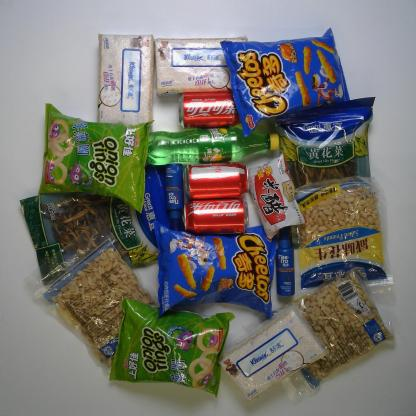Dried Food: (17, 162, 174, 291), (265, 93, 376, 225)
Dried Fruit: (25, 226, 171, 382), (260, 265, 396, 393), (284, 178, 393, 293)
Drink: (146, 125, 278, 164), (178, 87, 244, 126), (182, 199, 248, 234), (188, 160, 249, 196)
Personal Hygiene: (271, 227, 296, 296), (164, 156, 184, 235)
Puffed Food: (222, 26, 350, 132), (147, 218, 279, 319), (108, 296, 236, 399), (41, 102, 152, 211)
Seasoner: (245, 152, 305, 240)
Tissue: (219, 304, 329, 403), (93, 33, 155, 128), (150, 36, 249, 92)
